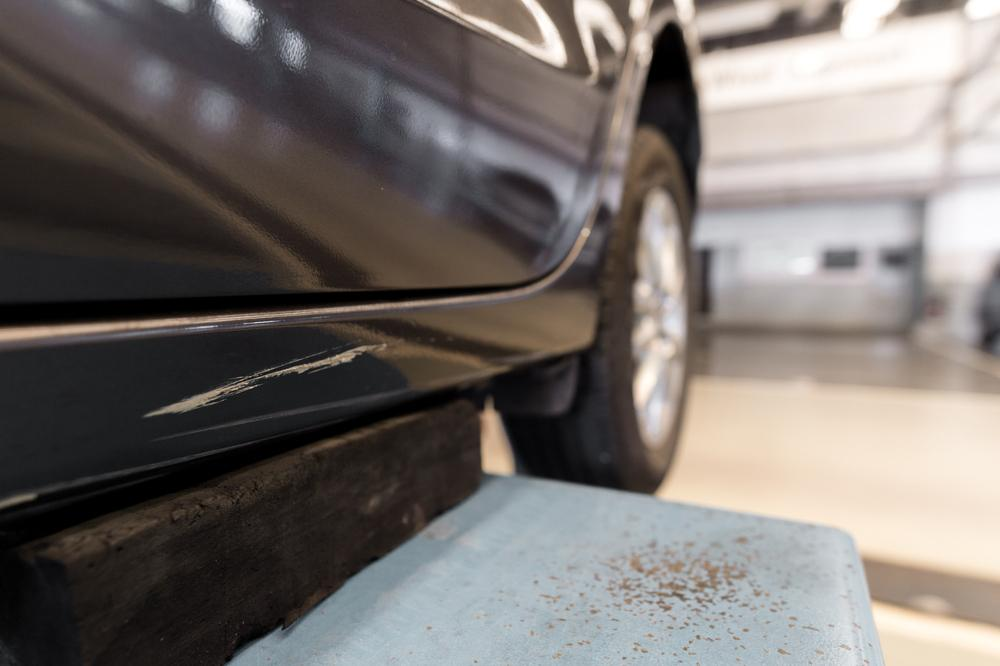scratch: (134, 341, 406, 419)
